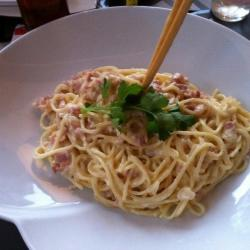carbonara: (37, 57, 250, 218)
